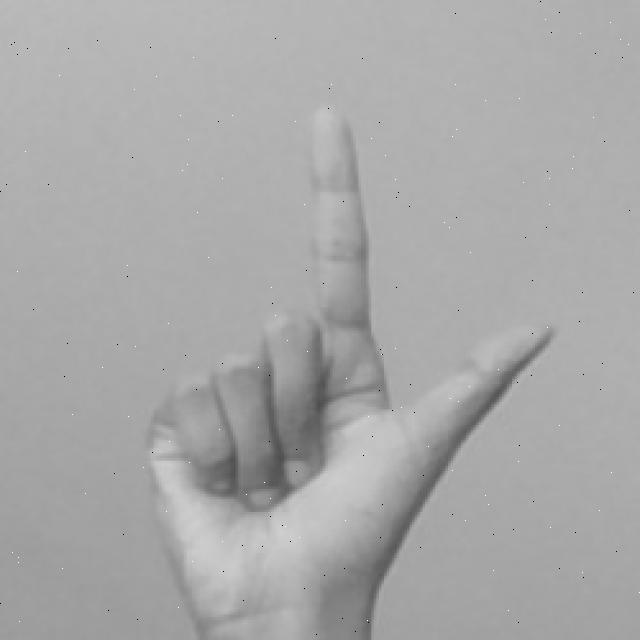L: (135, 97, 560, 640)
